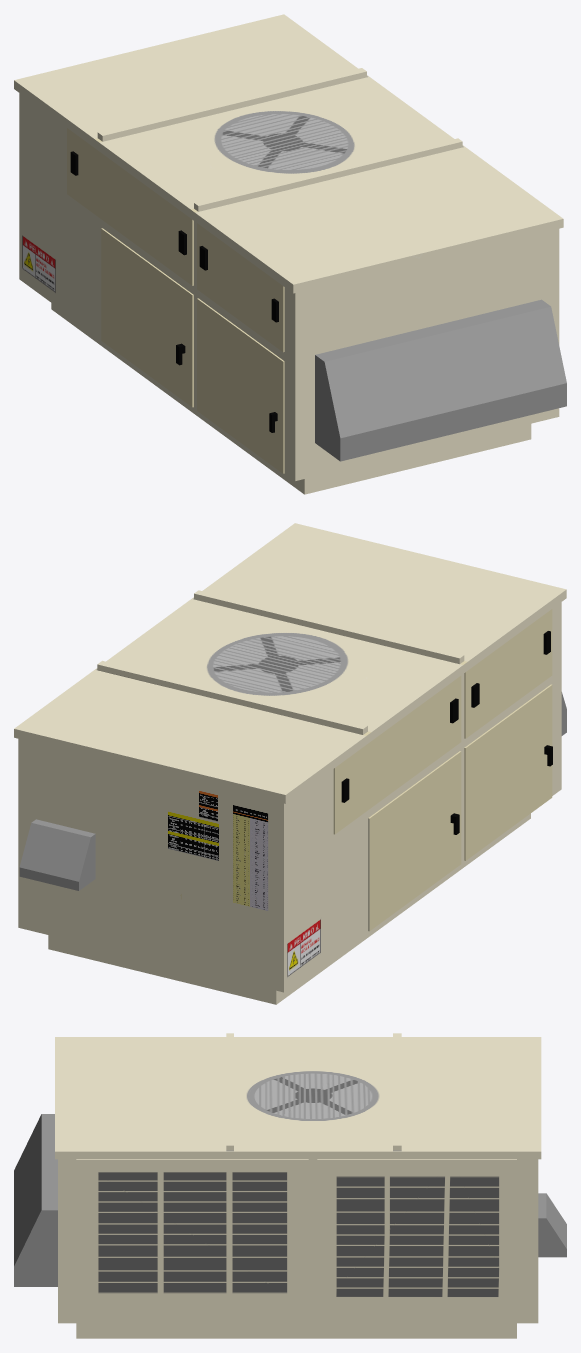
Rendered from Aire Modelo_1.obj.
3 views of the same model, one above another, from view 1: azimuth 30°, elevation 25°; view 2: azimuth 150°, elevation 25°; view 3: azimuth 270°, elevation 25° (orthographic). The views are drawn at different scales.
Parts seen in each view (by area): view 1: Aire_modelo_2_Cube; view 2: Aire_modelo_2_Cube; view 3: Aire_modelo_2_Cube.
Boxes of the visible parts, x1=… form: Aire_modelo_2_Cube: x1=14, y1=14, x2=566, y2=494; Aire_modelo_2_Cube: x1=14, y1=523, x2=566, y2=1004; Aire_modelo_2_Cube: x1=14, y1=1033, x2=566, y2=1338.
Size of the model in its own units: 1 by 0.8 by 2.
Materials: 1 (1 with a texture image).
